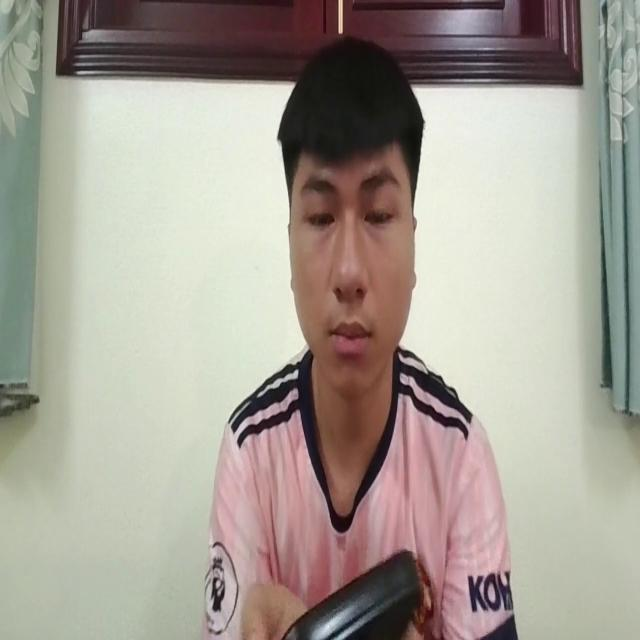phone: (285, 543, 420, 640)
student: (206, 33, 517, 640)
